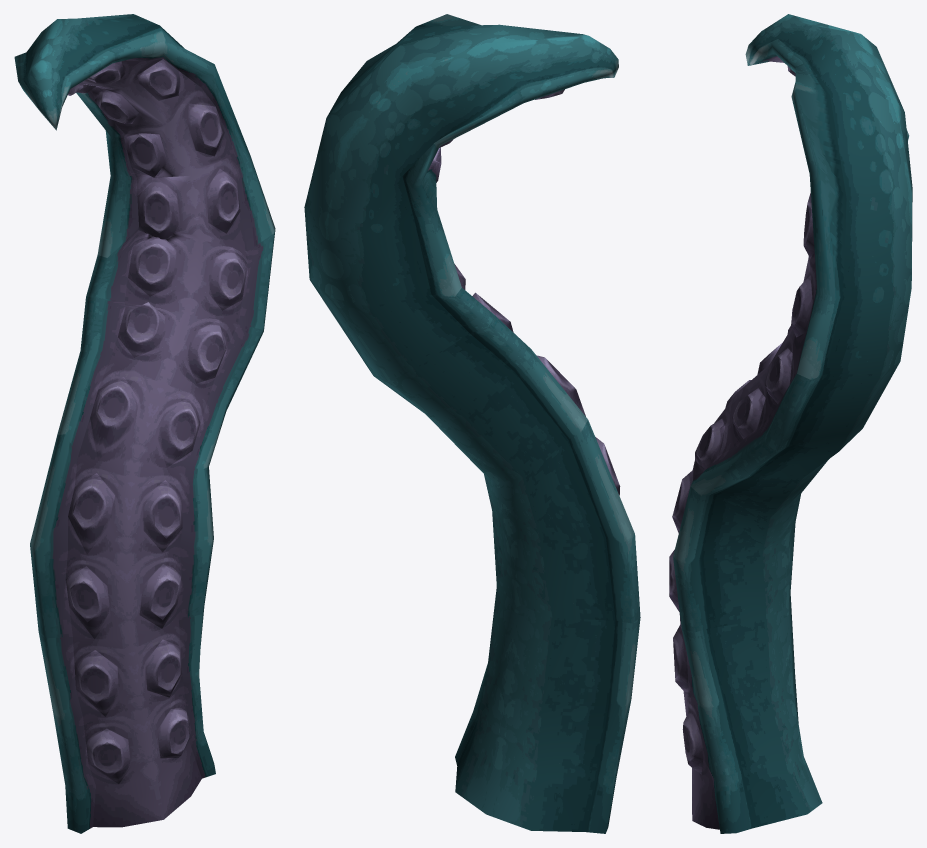
Rendered from tentacle_arm_455c767b.glb.
The picture shows the model from 3 angles, left to right: view 1: azimuth 30°, elevation 25°; view 2: azimuth 150°, elevation 25°; view 3: azimuth 270°, elevation 25°; orthographic projection. The views are drawn at different scales.
Bounding box in the file's own units: 3.45 × 9.39 × 2.61.
Materials: 1 (1 with a texture image).
